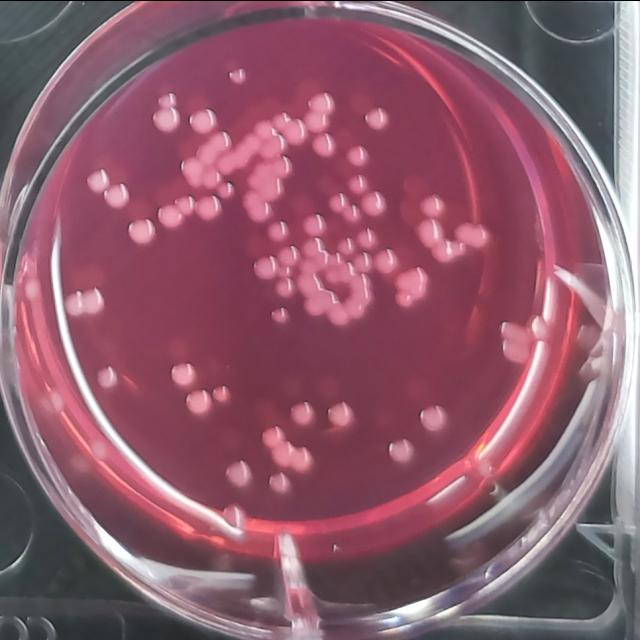Bacillus: (55, 284, 107, 320), (145, 88, 183, 136), (495, 318, 531, 366), (393, 265, 429, 311), (155, 193, 196, 230), (222, 456, 258, 492), (178, 386, 216, 420), (416, 400, 452, 434), (163, 358, 199, 390), (125, 215, 159, 248), (302, 288, 339, 318), (325, 398, 359, 430), (385, 434, 419, 466), (454, 220, 492, 248), (100, 180, 134, 211), (186, 104, 218, 136), (360, 187, 390, 219), (288, 396, 318, 426), (250, 252, 280, 282), (220, 500, 250, 530), (372, 245, 401, 276), (268, 438, 296, 470), (290, 442, 319, 472), (266, 468, 294, 498), (283, 116, 311, 146), (260, 130, 288, 160), (344, 140, 374, 168), (362, 104, 392, 132), (178, 156, 206, 186), (260, 422, 288, 451), (196, 192, 223, 222), (307, 88, 338, 114), (225, 62, 253, 90), (420, 190, 448, 218), (416, 216, 444, 244), (84, 166, 112, 194), (311, 130, 337, 160), (244, 196, 274, 222), (94, 362, 120, 392), (264, 218, 292, 244), (260, 175, 286, 203), (526, 312, 552, 340), (302, 210, 328, 237), (276, 242, 302, 268), (304, 108, 330, 134), (355, 225, 381, 251), (430, 238, 456, 264), (250, 116, 276, 142), (270, 152, 294, 180), (326, 300, 350, 328), (343, 294, 368, 320), (270, 108, 294, 134), (208, 128, 234, 152), (194, 139, 218, 165), (200, 166, 224, 192), (88, 434, 110, 462), (22, 274, 42, 304), (351, 249, 374, 275), (210, 380, 234, 404), (347, 172, 371, 196), (327, 189, 351, 213), (44, 387, 68, 411), (274, 274, 296, 300), (300, 234, 326, 256), (270, 304, 292, 328), (342, 202, 364, 226), (394, 287, 416, 311), (336, 234, 357, 256), (215, 178, 235, 200), (276, 262, 293, 280)
